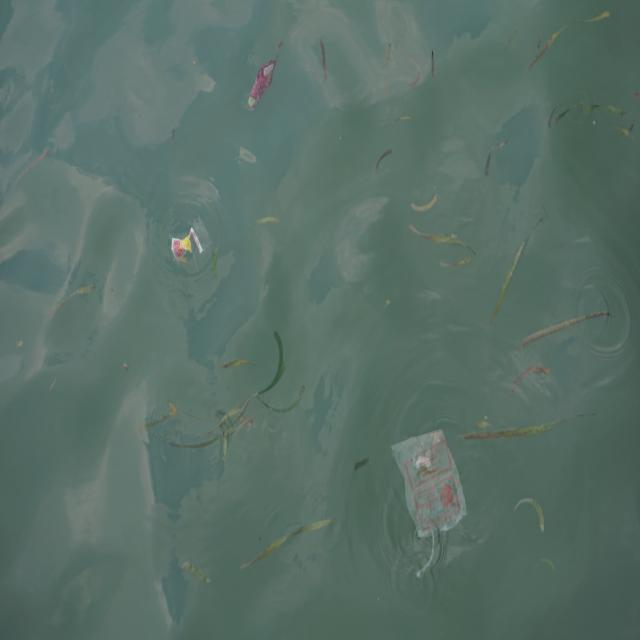Bungkus Makanan: (392, 428, 469, 543), (247, 43, 283, 112), (169, 216, 212, 266)
